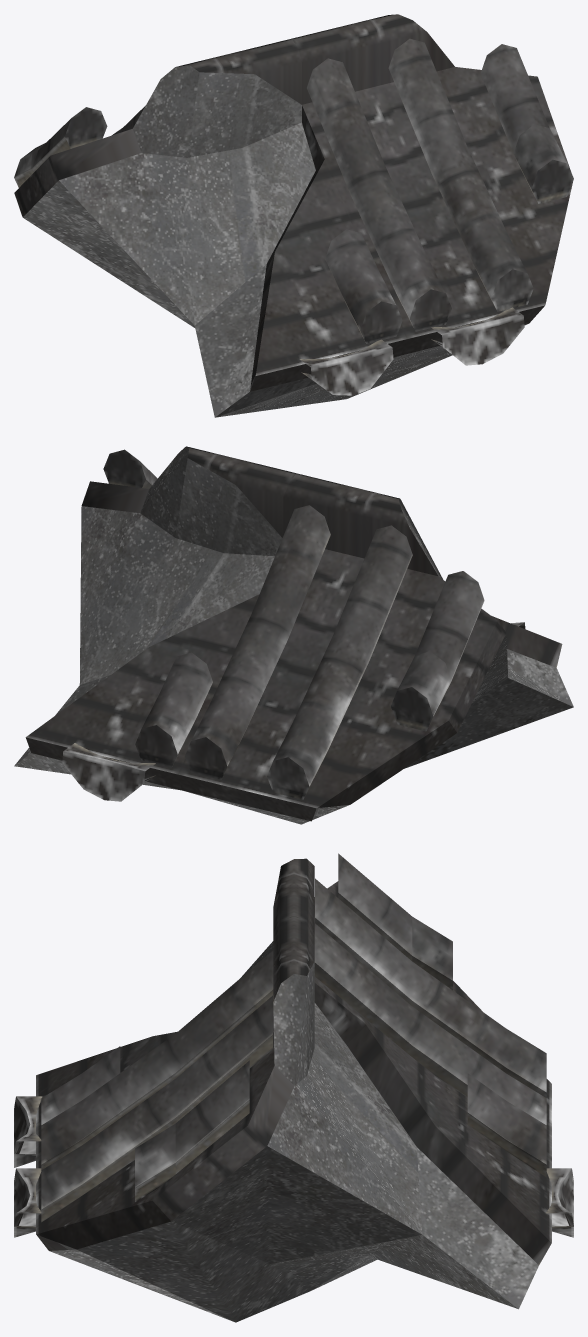
The model's file is hutongWallDebriRoof.fbx.
3 views of the same model, one above another, from view 1: azimuth 30°, elevation 25°; view 2: azimuth 150°, elevation 25°; view 3: azimuth 270°, elevation 25° (orthographic). The views are drawn at different scales.
Parts seen in each view (by area): view 1: hutong_wall_debri_roof; view 2: hutong_wall_debri_roof; view 3: hutong_wall_debri_roof.
Part boxes in pixels (x1,y1,x2,y2): hutong_wall_debri_roof: [14, 14, 573, 417]; hutong_wall_debri_roof: [14, 446, 573, 824]; hutong_wall_debri_roof: [14, 853, 573, 1322].
Size of the model in its own units: 115 by 85.22 by 111.
